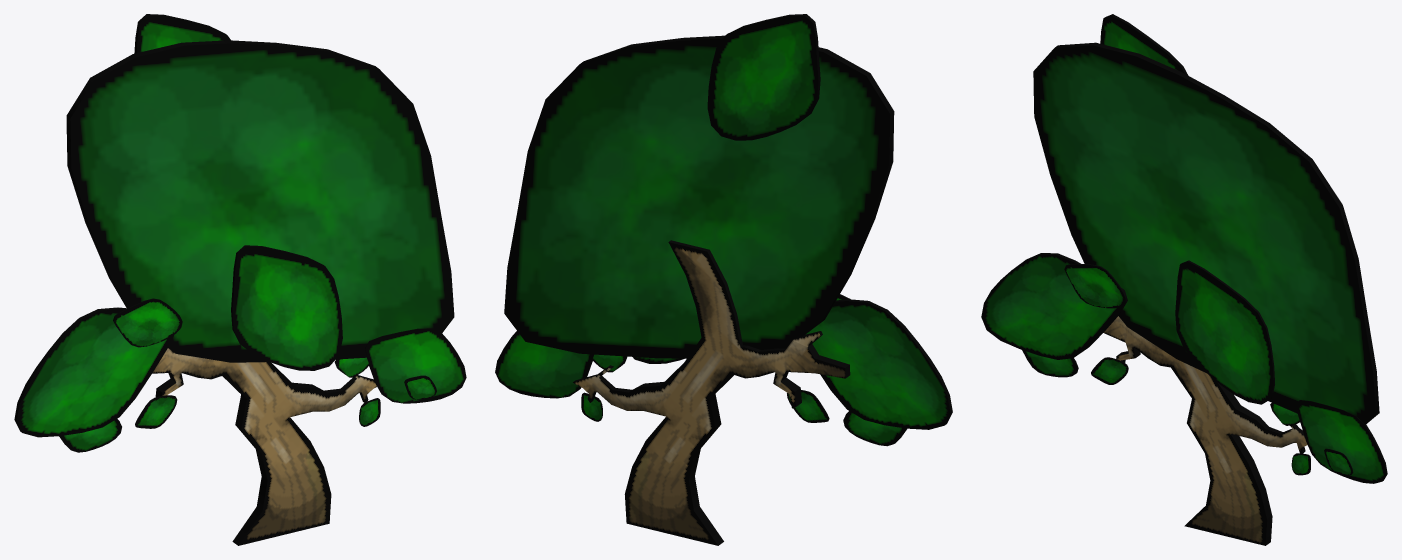
File: Tree.FBX
3 views of the same model, side by side, from view 1: azimuth 30°, elevation 25°; view 2: azimuth 150°, elevation 25°; view 3: azimuth 330°, elevation 25° (orthographic). The views are drawn at different scales.
Visible parts, largest first — view 1: Cylinder009, Box001, Cylinder005, Cylinder010, Cylinder004, Cylinder006, Cylinder011, Cylinder008, Cylinder007, Cylinder003; view 2: Cylinder009, Box001, Cylinder005, Cylinder011, Cylinder004, Cylinder008, Cylinder007; view 3: Cylinder009, Box001, Cylinder010, Cylinder005, Cylinder004, Cylinder006, Cylinder011, Cylinder008, Cylinder007, Cylinder003.
Boxes of the visible parts, left/top/right/bottom form: Cylinder009: left=66, top=40, right=454, bottom=362; Box001: left=152, top=348, right=376, bottom=545; Cylinder005: left=14, top=307, right=173, bottom=437; Cylinder010: left=231, top=245, right=342, bottom=370; Cylinder004: left=365, top=328, right=466, bottom=403; Cylinder006: left=113, top=298, right=182, bottom=347; Cylinder011: left=134, top=14, right=230, bottom=53; Cylinder008: left=59, top=419, right=121, bottom=452; Cylinder007: left=135, top=395, right=177, bottom=428; Cylinder003: left=404, top=375, right=436, bottom=399; Cylinder009: left=504, top=35, right=894, bottom=358; Box001: left=573, top=240, right=850, bottom=545; Cylinder005: left=806, top=299, right=952, bottom=429; Cylinder011: left=707, top=14, right=820, bottom=140; Cylinder004: left=495, top=331, right=593, bottom=398; Cylinder008: left=843, top=411, right=906, bottom=446; Cylinder007: left=787, top=390, right=829, bottom=422; Cylinder009: left=1033, top=42, right=1379, bottom=424; Box001: left=1103, top=316, right=1307, bottom=545; Cylinder010: left=1175, top=260, right=1274, bottom=404; Cylinder005: left=981, top=253, right=1127, bottom=359; Cylinder004: left=1296, top=400, right=1387, bottom=483; Cylinder006: left=1064, top=264, right=1126, bottom=308; Cylinder011: left=1100, top=14, right=1188, bottom=75; Cylinder008: left=1022, top=350, right=1078, bottom=377; Cylinder007: left=1091, top=357, right=1128, bottom=384; Cylinder003: left=1324, top=448, right=1353, bottom=475.
Size of the model in its own units: 561 by 651 by 23.3.
1 material, 1 textured.
